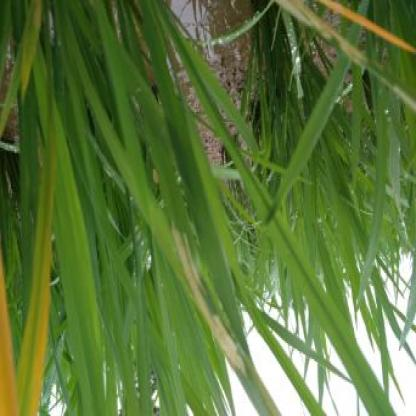Tungro: (3, 185, 63, 416)
